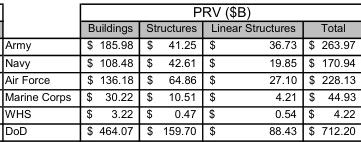table: (3, 3, 355, 136)
table column: (202, 3, 301, 136), (3, 3, 77, 136), (138, 3, 202, 136), (77, 3, 138, 136), (301, 3, 355, 136)
table column header: (3, 3, 355, 36)
table row: (3, 3, 355, 20), (3, 36, 355, 53), (3, 53, 355, 70), (3, 70, 355, 87), (3, 87, 355, 104), (3, 104, 355, 121), (3, 20, 355, 36), (3, 121, 355, 136)
table spanning cell: (77, 3, 355, 20)
